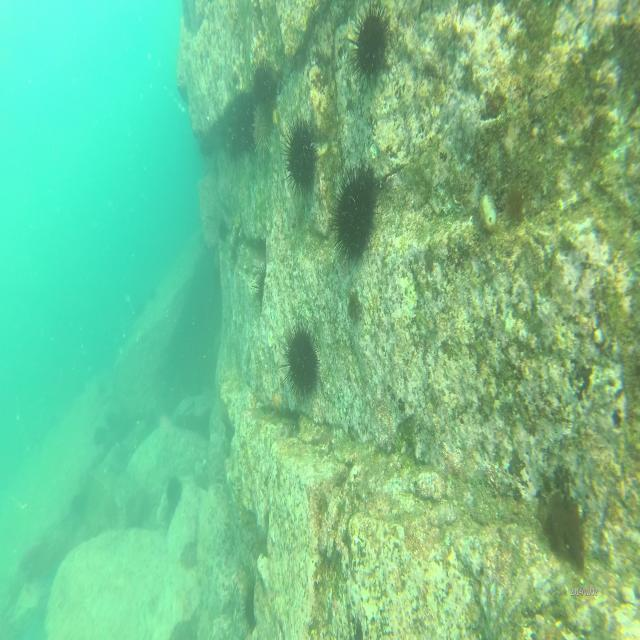echinus: (334, 157, 381, 268), (350, 0, 390, 85), (282, 113, 320, 195), (284, 325, 318, 405), (230, 86, 258, 156), (250, 101, 272, 156), (250, 59, 272, 104), (252, 260, 269, 314), (240, 582, 259, 630), (164, 474, 184, 509)
